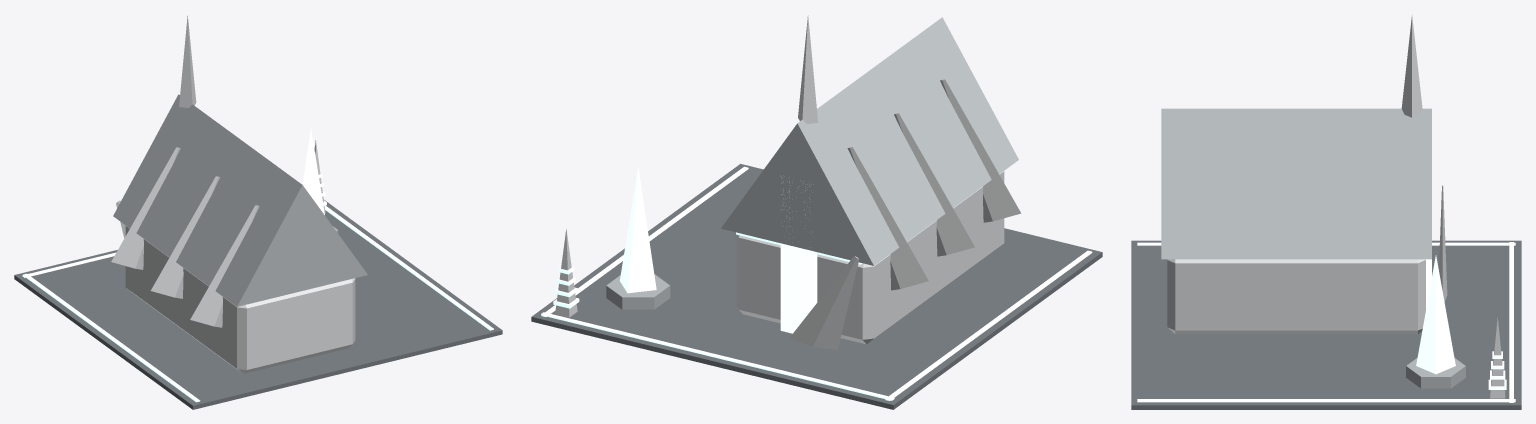
The model's file is zone_low_2_t4.glb.
3 renders of one model, left to right at view 1: azimuth 30°, elevation 25°; view 2: azimuth 150°, elevation 25°; view 3: azimuth 270°, elevation 25°, orthographic. The views are drawn at different scales.
Parts seen in each view (by area): view 1: zone_low_2_t4, detail; view 2: zone_low_2_t4, detail; view 3: zone_low_2_t4, detail.
Boxes of the visible parts, bbox=[...] form: zone_low_2_t4: bbox=[14, 15, 502, 409]; detail: bbox=[22, 140, 493, 402]; zone_low_2_t4: bbox=[531, 15, 1102, 409]; detail: bbox=[541, 166, 1092, 400]; zone_low_2_t4: bbox=[1131, 14, 1521, 409]; detail: bbox=[1137, 242, 1515, 402].
Bounding box in the file's own units: 19.6 × 18.28 × 19.6.
